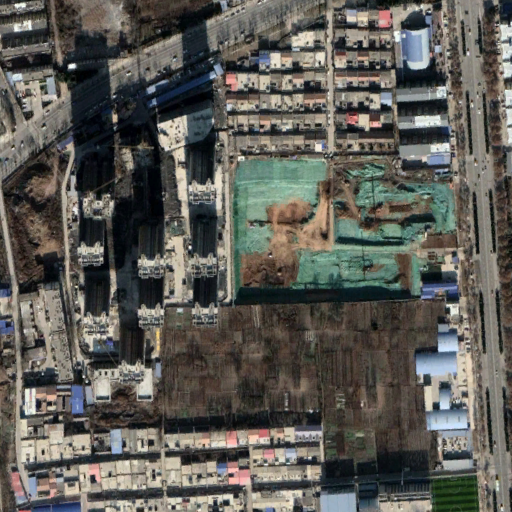cw: (231, 151, 458, 302)
